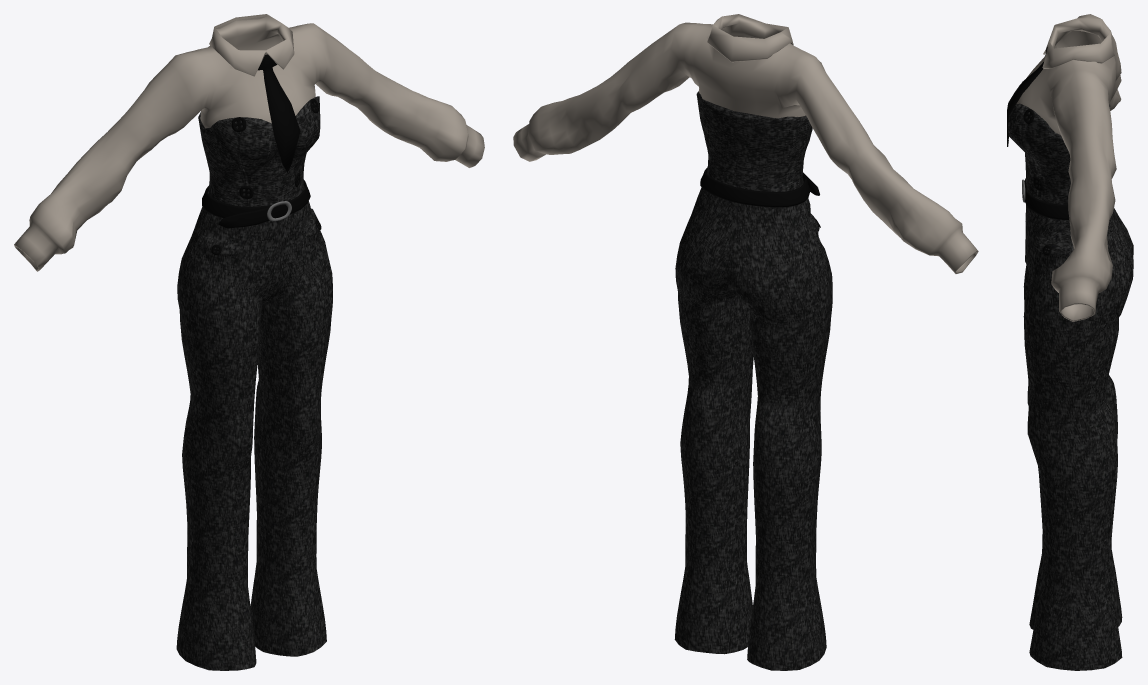
The model's file is woman-office.glb.
3 renders of one model, left to right at view 1: azimuth 30°, elevation 25°; view 2: azimuth 150°, elevation 25°; view 3: azimuth 270°, elevation 25°, orthographic. The views are drawn at different scales.
Parts seen in each view (by area): view 1: Circle_0, Circle.003_3, Circle.004_4, Circle.001_1; view 2: Circle_0, Circle.003_3, Circle.001_1; view 3: Circle_0, Circle.003_3, Circle.001_1, Circle.004_4, Circle.005_5.
Boxes of the visible parts, box(x1,y1,x2,y2) form: Circle_0: box(176, 96, 332, 670); Circle.003_3: box(14, 14, 484, 271); Circle.004_4: box(258, 54, 300, 172); Circle.001_1: box(202, 179, 310, 228); Circle_0: box(674, 91, 832, 670); Circle.003_3: box(513, 14, 978, 273); Circle.001_1: box(700, 167, 819, 207); Circle_0: box(1007, 84, 1133, 670); Circle.003_3: box(1016, 14, 1121, 321); Circle.001_1: box(1023, 178, 1069, 219); Circle.004_4: box(1007, 46, 1047, 146); Circle.005_5: box(1023, 109, 1051, 255).
Bounding box in the file's own units: 6.47 × 8.34 × 1.57.
Materials: 6 (1 with a texture image).
